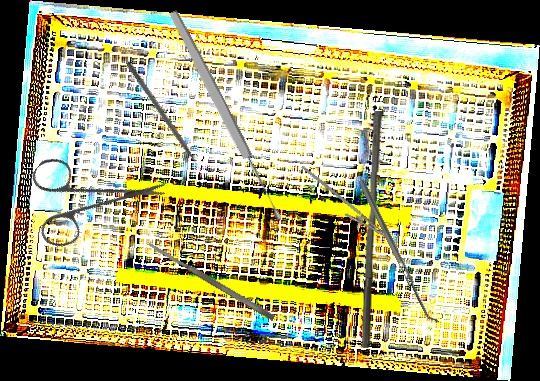Iris Scissors: (4, 115, 170, 282)
Needle Holder: (288, 165, 402, 249)
Pusher: (123, 59, 208, 180), (360, 110, 384, 349)
Spatula Surgical: (358, 176, 440, 327), (147, 240, 276, 322)
Surgical Spoon: (166, 7, 286, 225)
